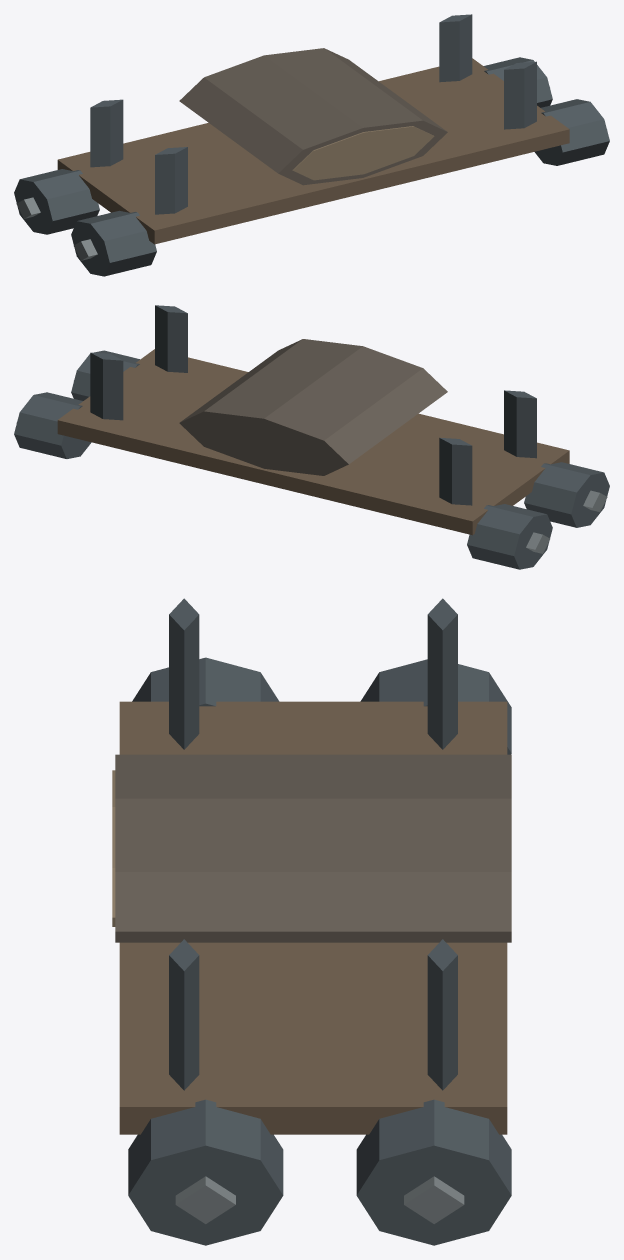
File: log_carriage.glb
3 views of the same model, one above another, from view 1: azimuth 30°, elevation 25°; view 2: azimuth 150°, elevation 25°; view 3: azimuth 270°, elevation 25° (orthographic). The views are drawn at different scales.
Parts seen in each view (by area): view 1: log_carriage; view 2: log_carriage; view 3: log_carriage.
Boxes of the visible parts, <box> form: log_carriage: <box>14,14,609,276</box>; log_carriage: <box>14,305,609,569</box>; log_carriage: <box>112,598,511,1245</box>.
Size of the model in its own units: 5.76 by 1.15 by 1.92.
